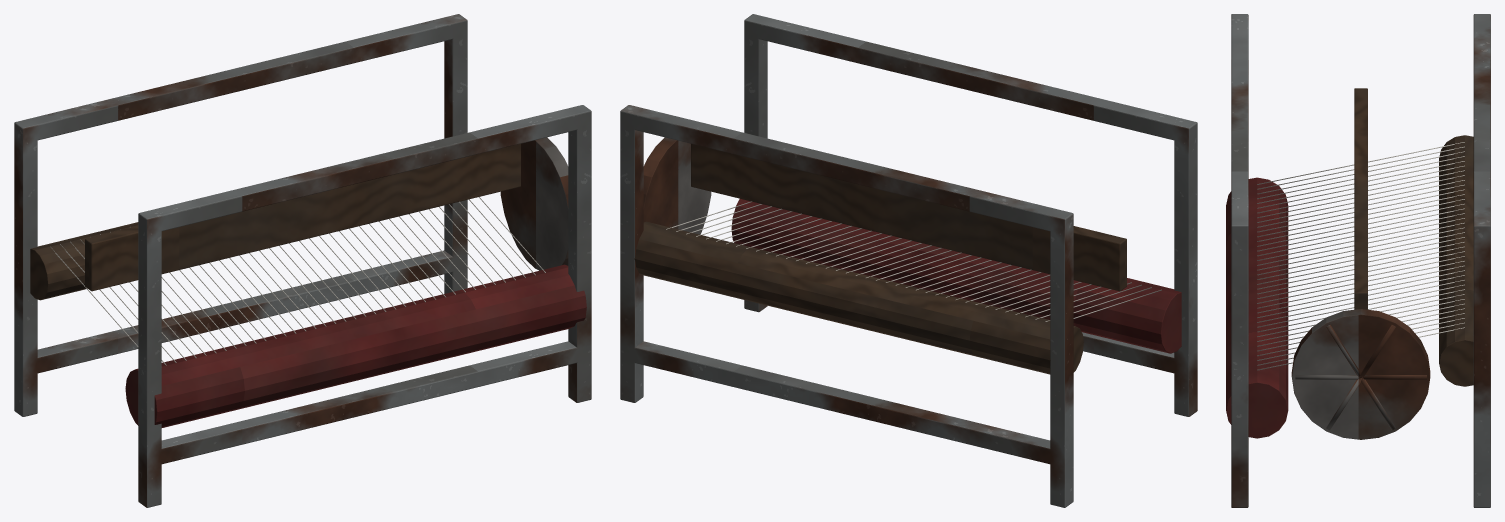
File: HM01_industrial_loom.glb
3 views of the same model, side by side, from view 1: azimuth 30°, elevation 25°; view 2: azimuth 150°, elevation 25°; view 3: azimuth 270°, elevation 25° (orthographic). The views are drawn at different scales.
Parts seen in each view (by area): view 1: HM01_industrial_loom; view 2: HM01_industrial_loom; view 3: HM01_industrial_loom.
Boxes of the visible parts, x1,y1,x2,y2 form: HM01_industrial_loom: (14, 14, 591, 507); HM01_industrial_loom: (620, 14, 1197, 507); HM01_industrial_loom: (1226, 14, 1490, 507).
Bounding box in the file's own units: 3 × 1.77 × 1.51.
Materials: 5 (5 with a texture image).
